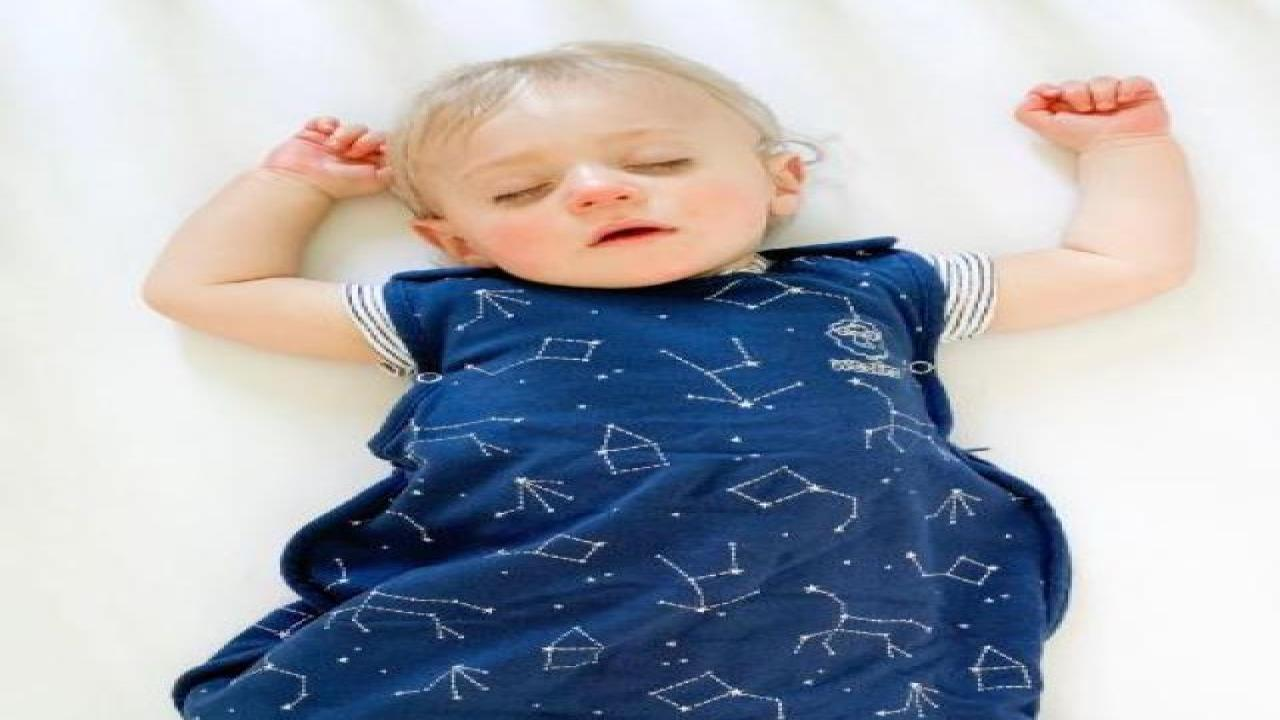hand: (1014, 76, 1176, 150), (272, 120, 396, 188)
